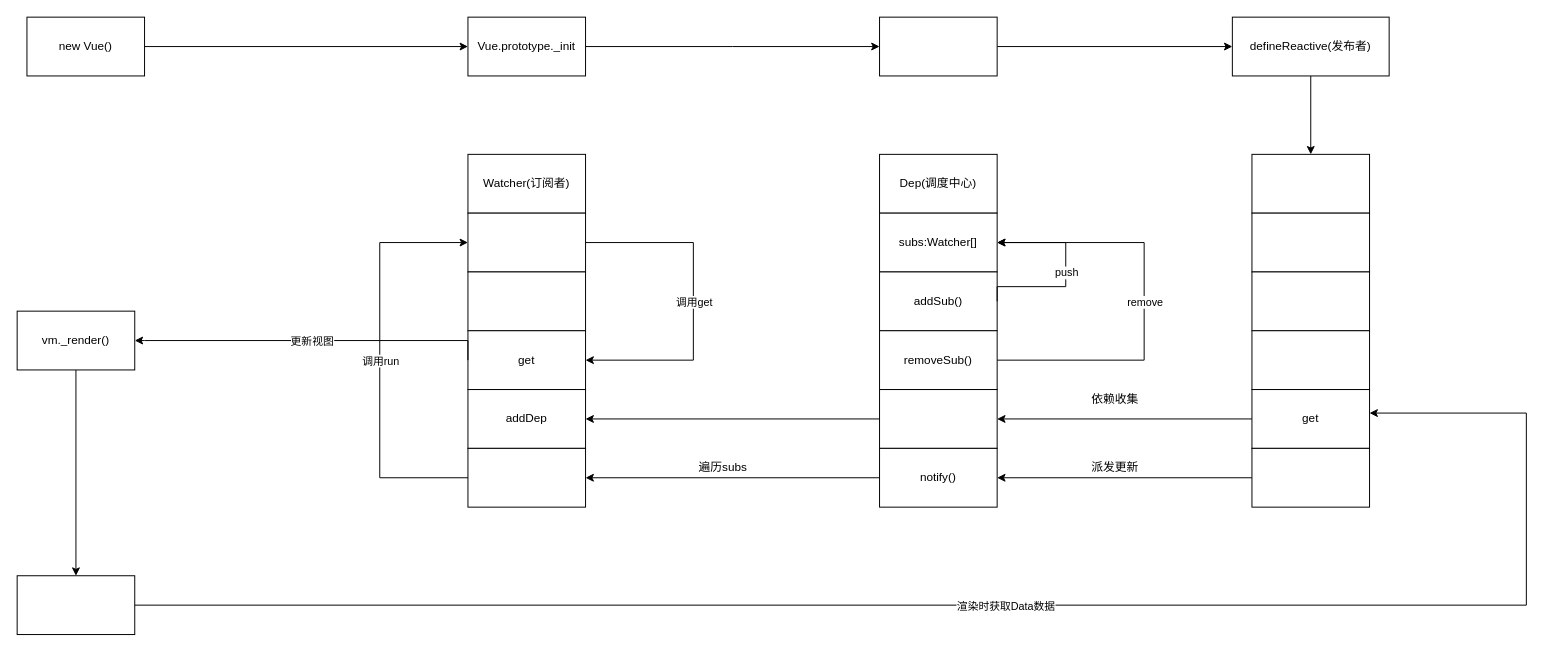
Image size: 1551x652. Some labels were removed from this diagram. The centre of each missing label's shape, as x and y in pixels:
"compileToFunctions" goes at (x=75, y=605).
"Data" goes at (x=1310, y=183).
"depend()" goes at (x=938, y=418).
"observe" goes at (x=938, y=46).
"run" goes at (x=526, y=242).
"set" goes at (x=1310, y=477).
"update" goes at (x=526, y=477).
